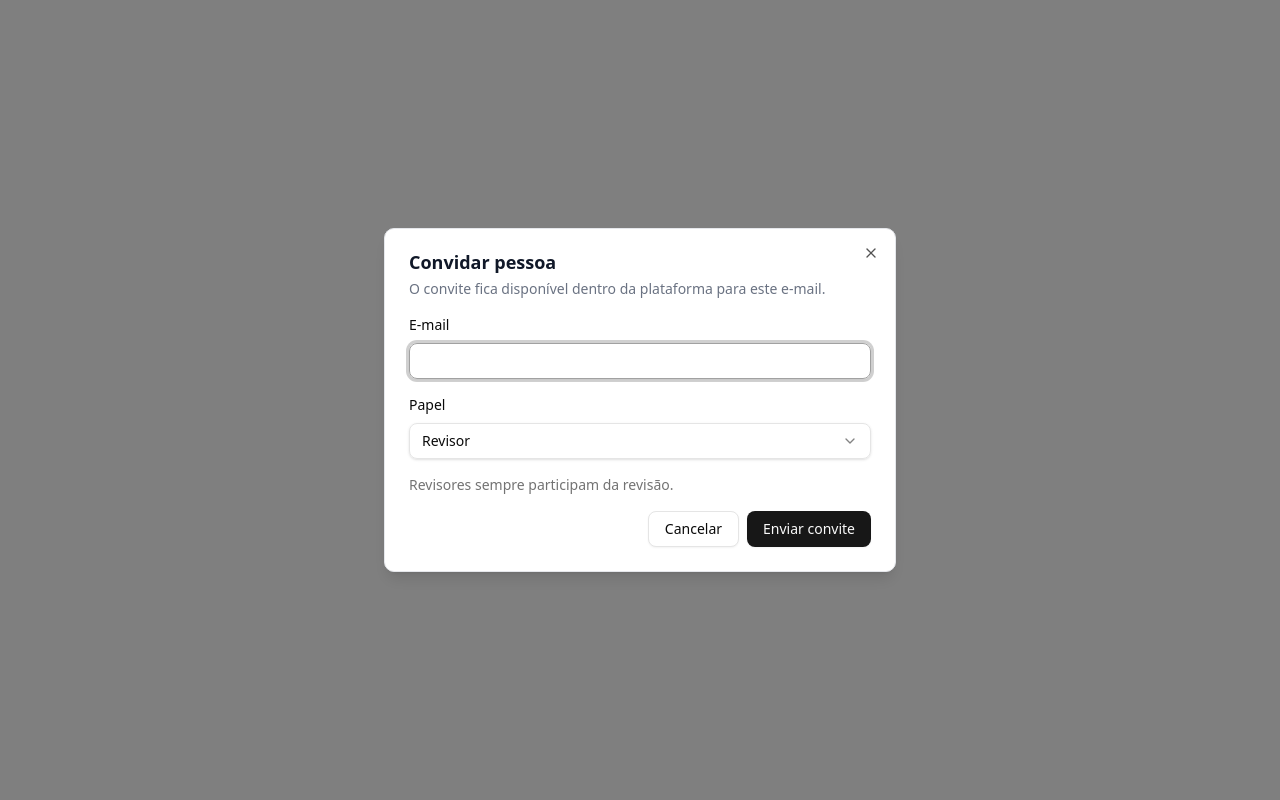
Scenario: invitation editor › preserves the form and reports a failed mutation
Type "bia@example.com" into the field labelled "E-mail" at (640, 361), box x1=409 y1=343 x2=871 y2=379
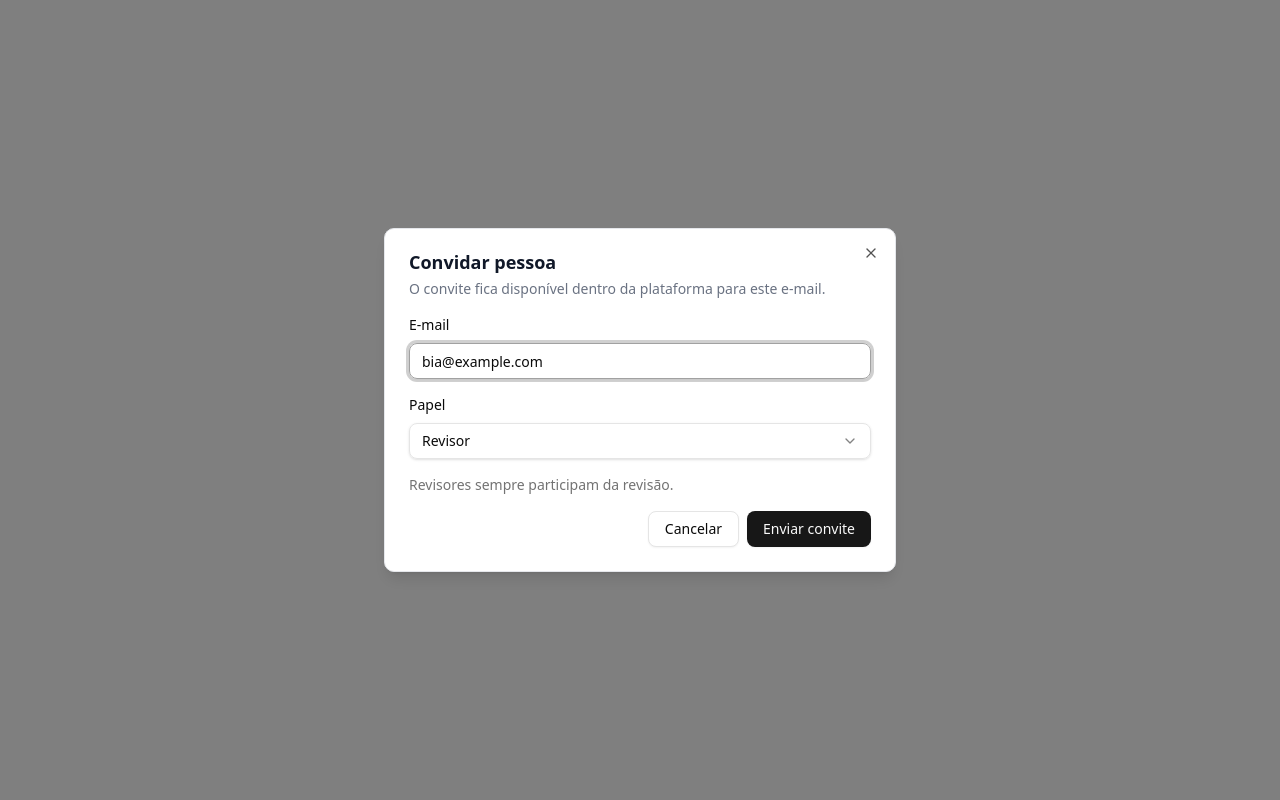
Click the button "Enviar convite" at (809, 529), box x1=747 y1=511 x2=871 y2=547
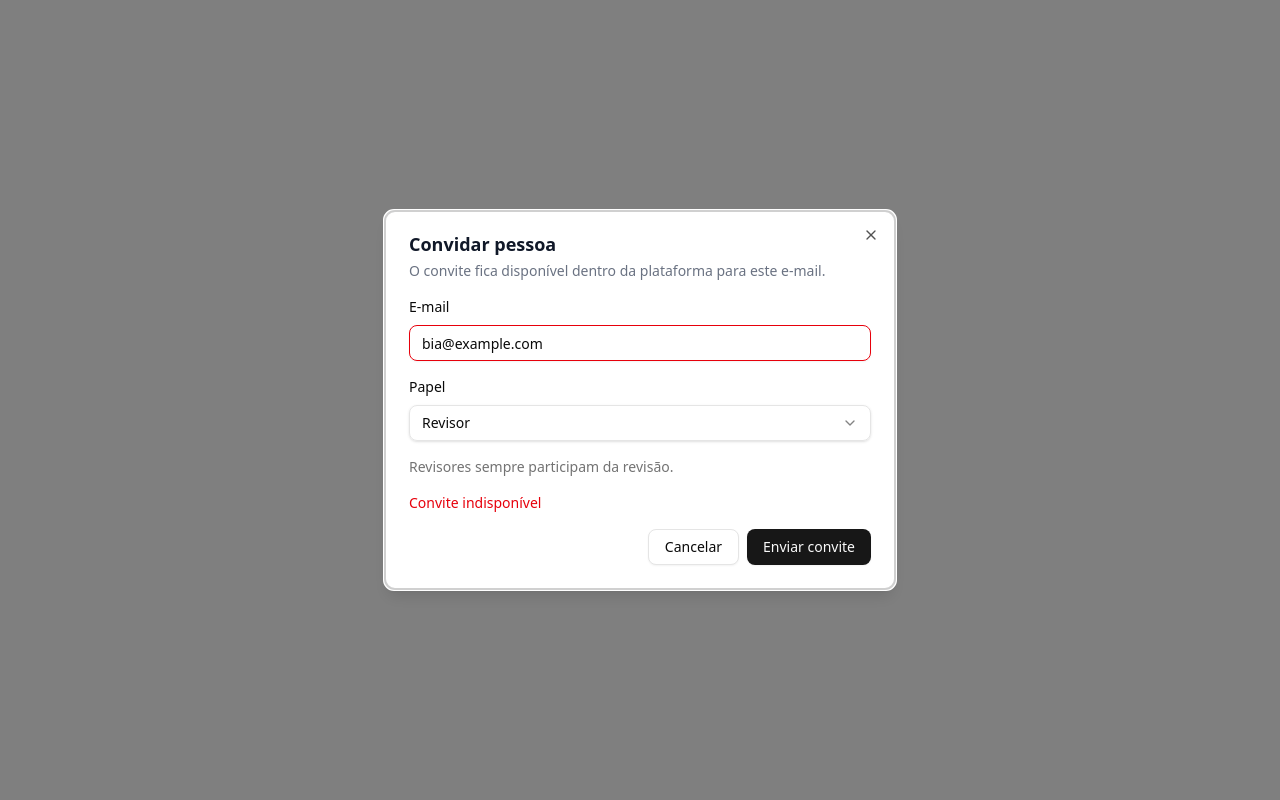
Expected: the dialog is shown, x1=384 y1=210 x2=896 y2=590
Now the message reads "Convite indisponível", box x1=409 y1=493 x2=542 y2=512
